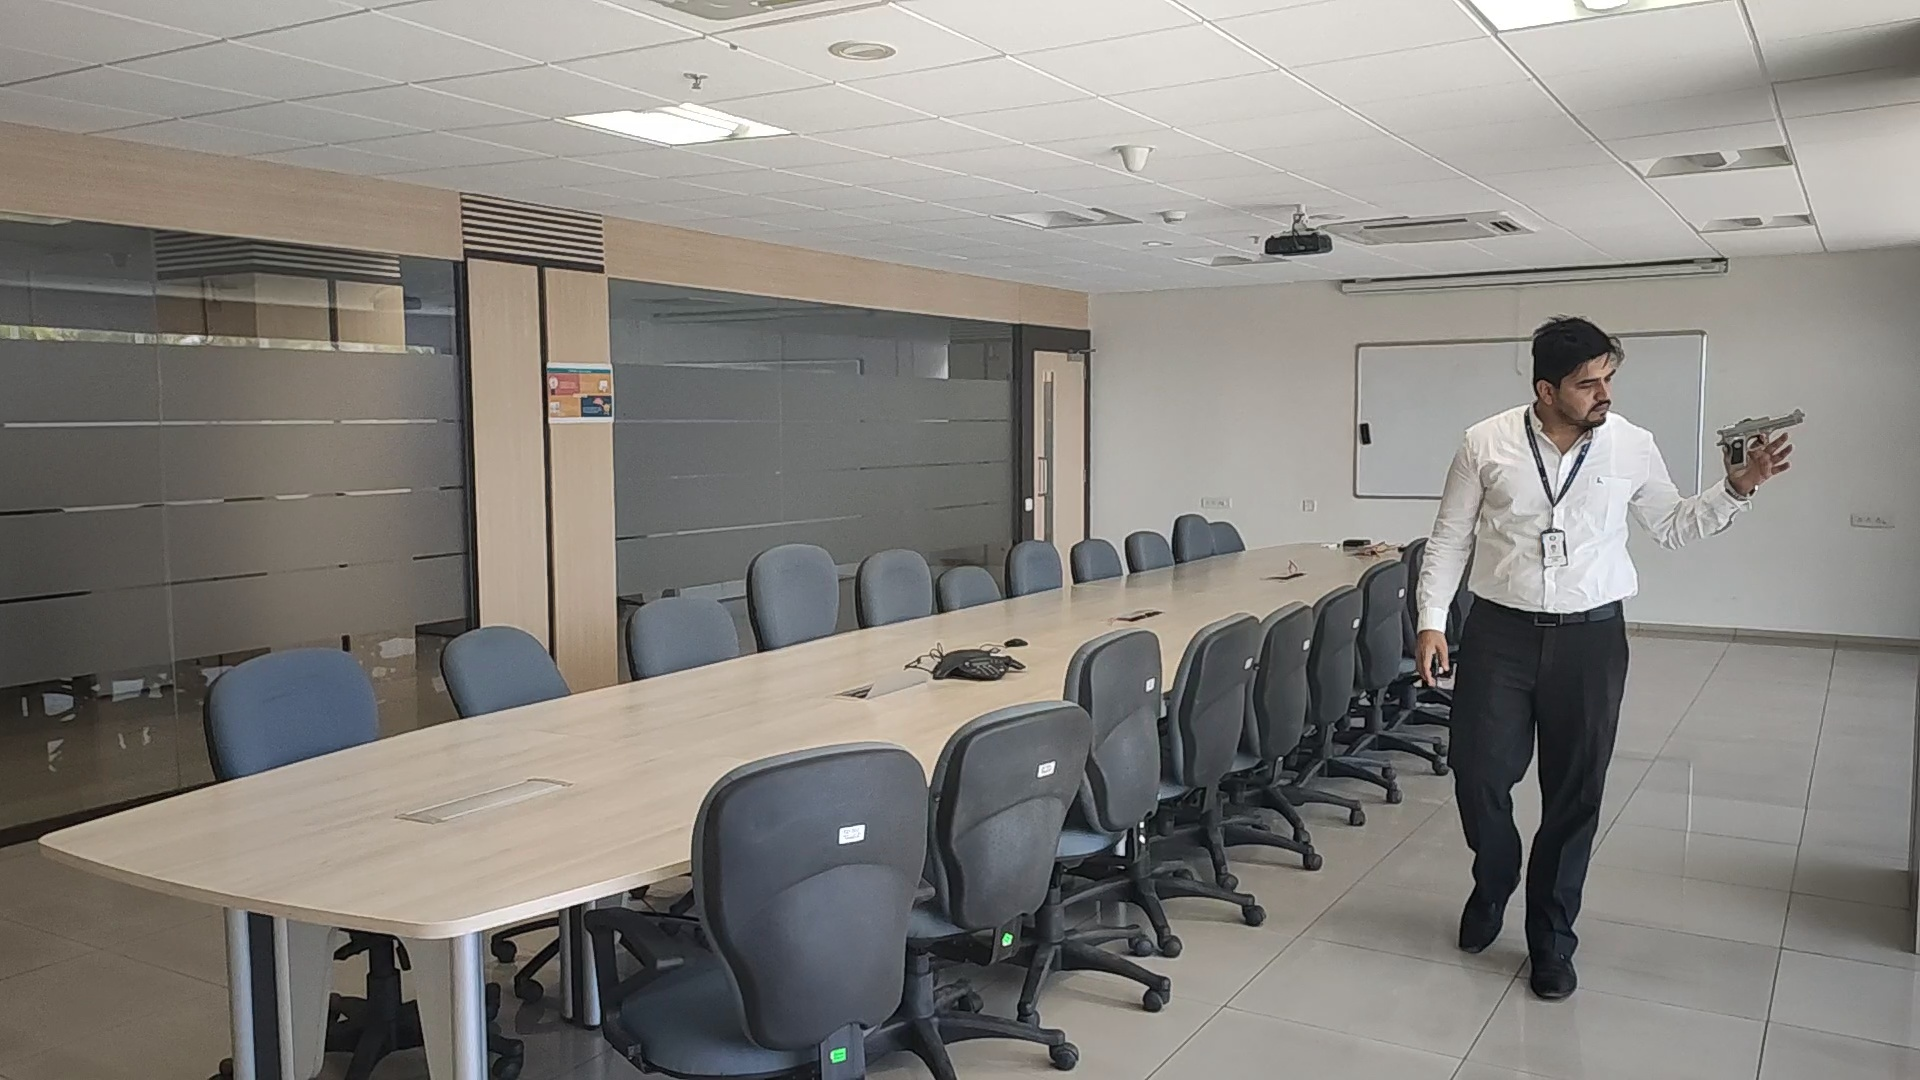gun: (1716, 407, 1807, 450)
